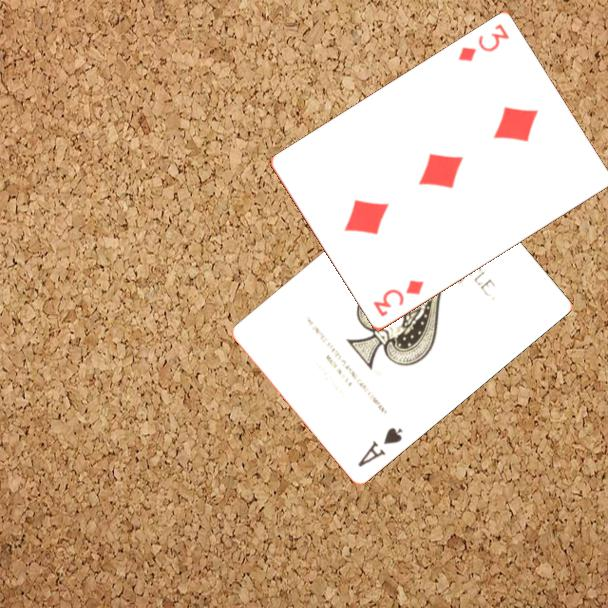d03: (454, 21, 512, 65), (369, 277, 427, 320)
s01: (354, 423, 406, 469)
